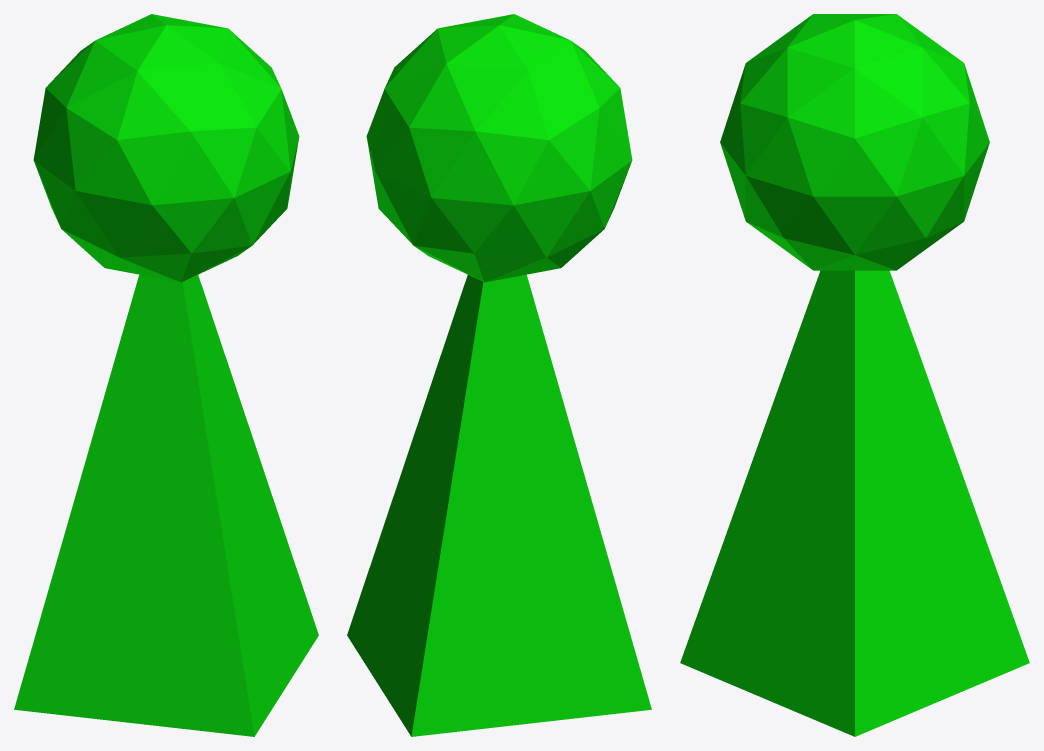
Rendered from player2.glb.
The picture shows the model from 3 angles, left to right: view 1: azimuth 30°, elevation 25°; view 2: azimuth 150°, elevation 25°; view 3: azimuth 270°, elevation 25°; orthographic projection.
Visible parts, largest first — view 1: Cone.001; view 2: Cone.001; view 3: Cone.001.
Part boxes in pixels (x1,y1,x2,y2): Cone.001: [14, 14, 318, 736]; Cone.001: [347, 14, 651, 736]; Cone.001: [680, 14, 1029, 736].
Bounding box in the file's own units: 0.5184 × 1.05 × 0.5184.
